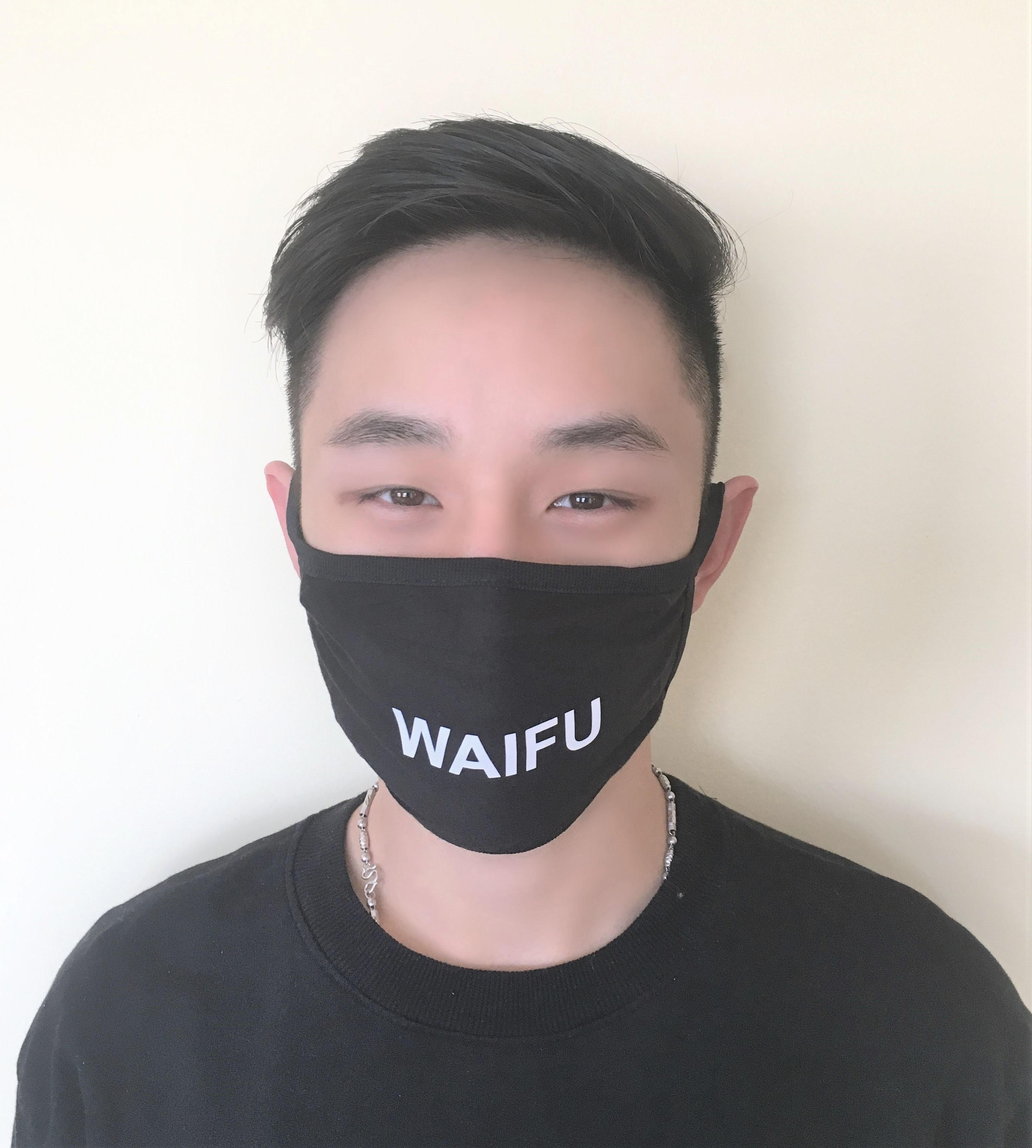Wearing Mask: (174, 74, 865, 917)
